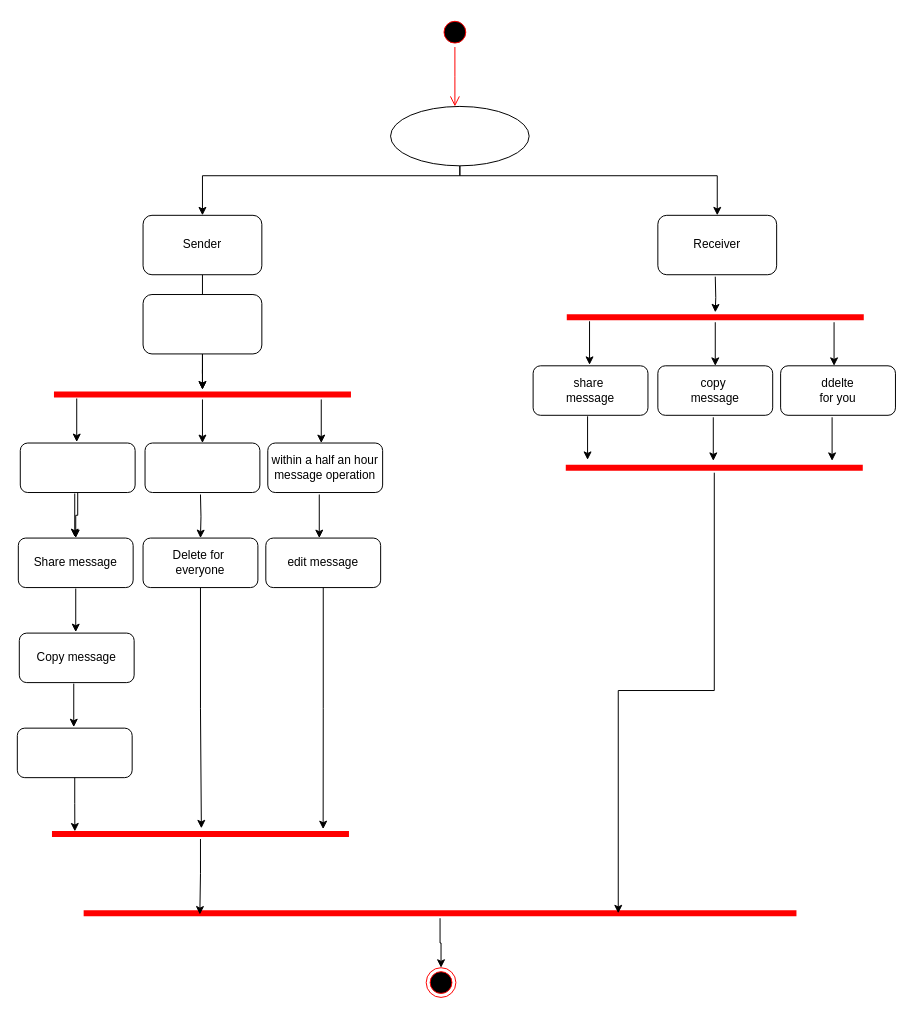
This 913x1015 diagram has some shape labels left out. The shapes that lost their labels are listed below. From the top down, each one's centre as x and y in pixels, then its label:
At point (459, 135): "Message operation".
At point (202, 324): "time duration".
At point (77, 467): "All time Message Operation".
At point (202, 467): "Within 1 hour message operatiion".
At point (74, 752): "Delete for you".
